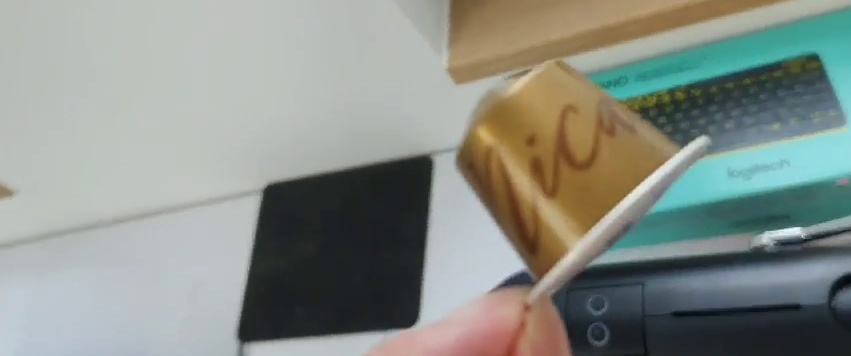capsule_9: (457, 54, 714, 305)
